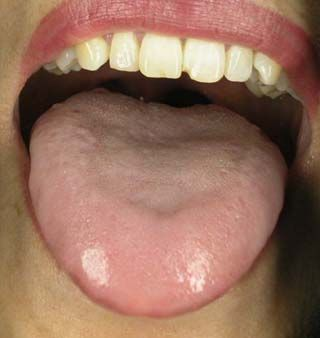chihenshe: (28, 88, 287, 317)
piweiao: (115, 171, 201, 231)
